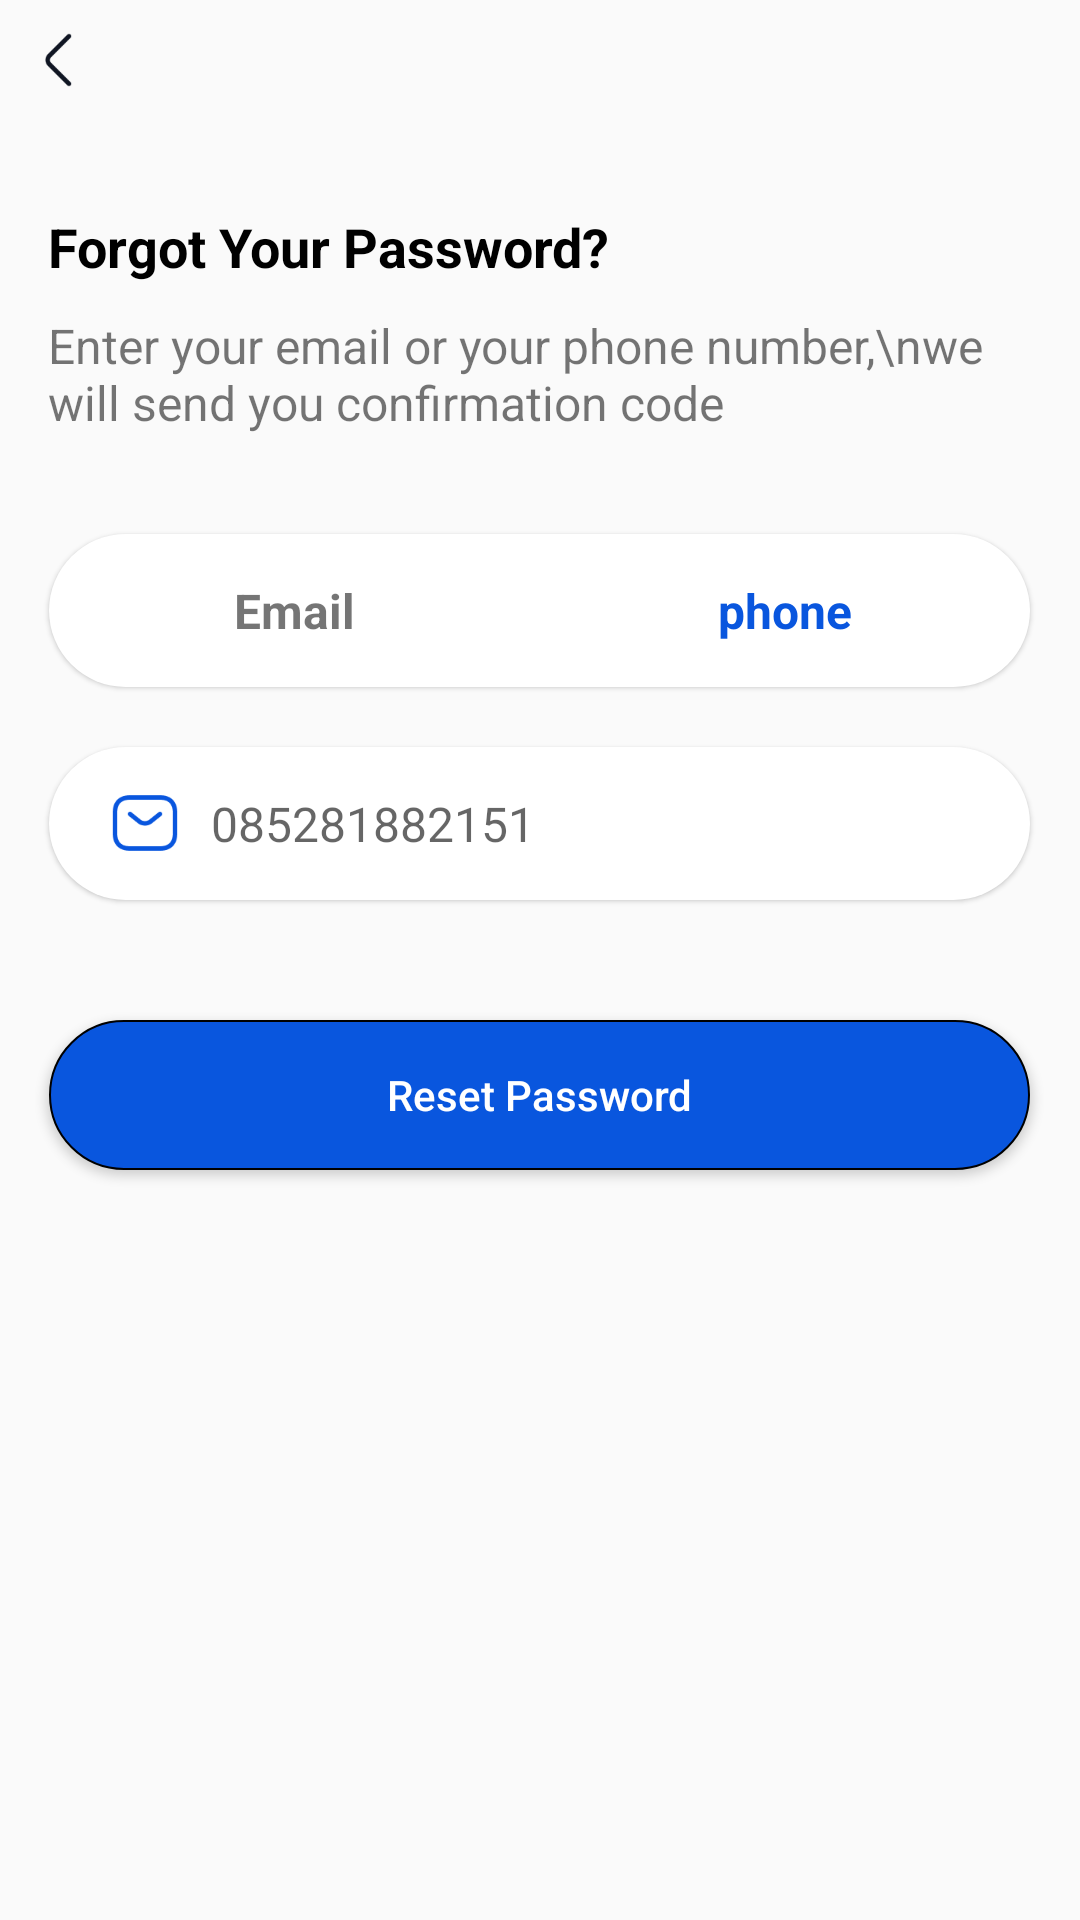

Where to tap for icons on this 1080px x 1920px app screen, as (x,y):
back arrow: (58,60)
